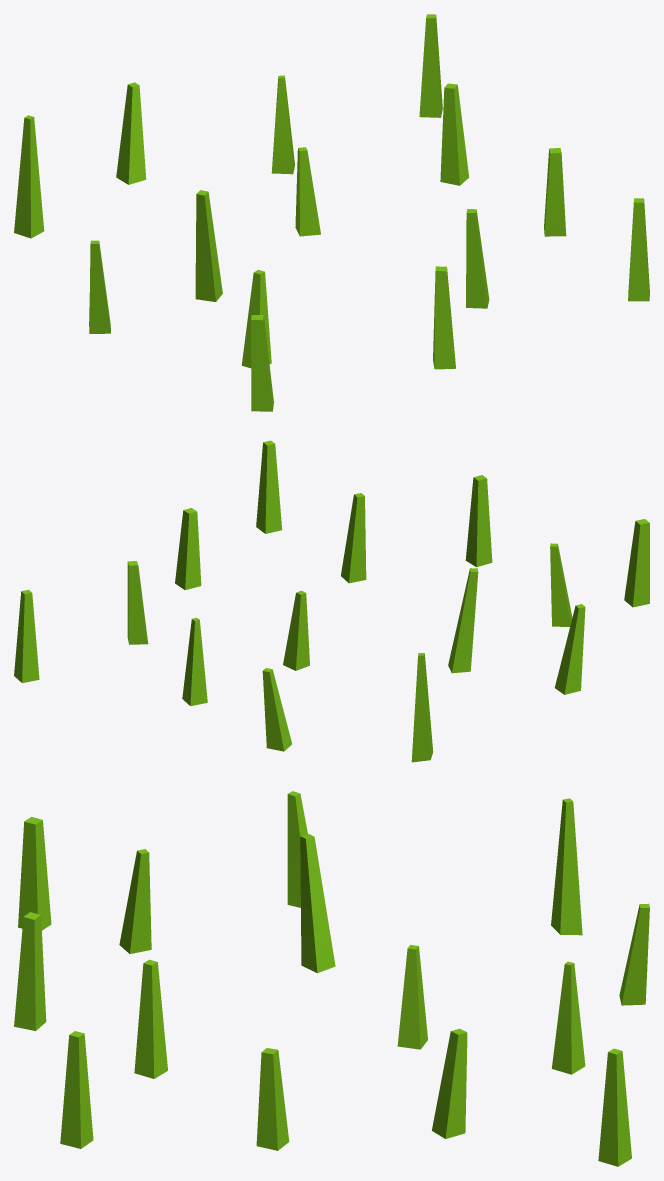
File: wheatStage1.obj
3 renders of one model, top to bottom at view 1: azimuth 30°, elevation 25°; view 2: azimuth 150°, elevation 25°; view 3: azimuth 270°, elevation 25°, orthographic. The views are drawn at different scales.
Visible parts, largest first — view 1: Cube.016; view 2: Cube.016; view 3: Cube.016.
Part boxes in pixels (x1,y1,x2,y2): Cube.016: (14, 14, 649, 411); Cube.016: (14, 440, 649, 762); Cube.016: (14, 791, 649, 1166).
Bounding box in the file's own units: 1.54 × 0.3504 × 1.53.
